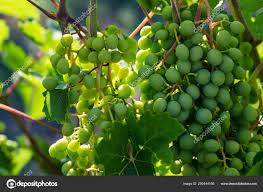grapes: (141, 14, 256, 177), (44, 34, 136, 172)
